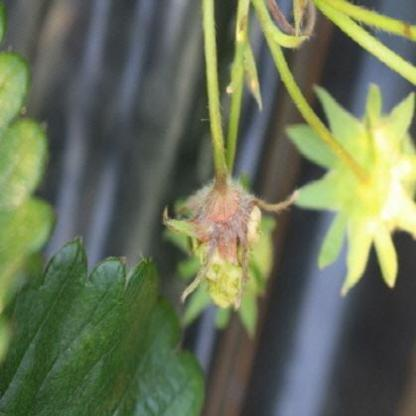Strawberry_Gray_Mold: (176, 173, 298, 310)
